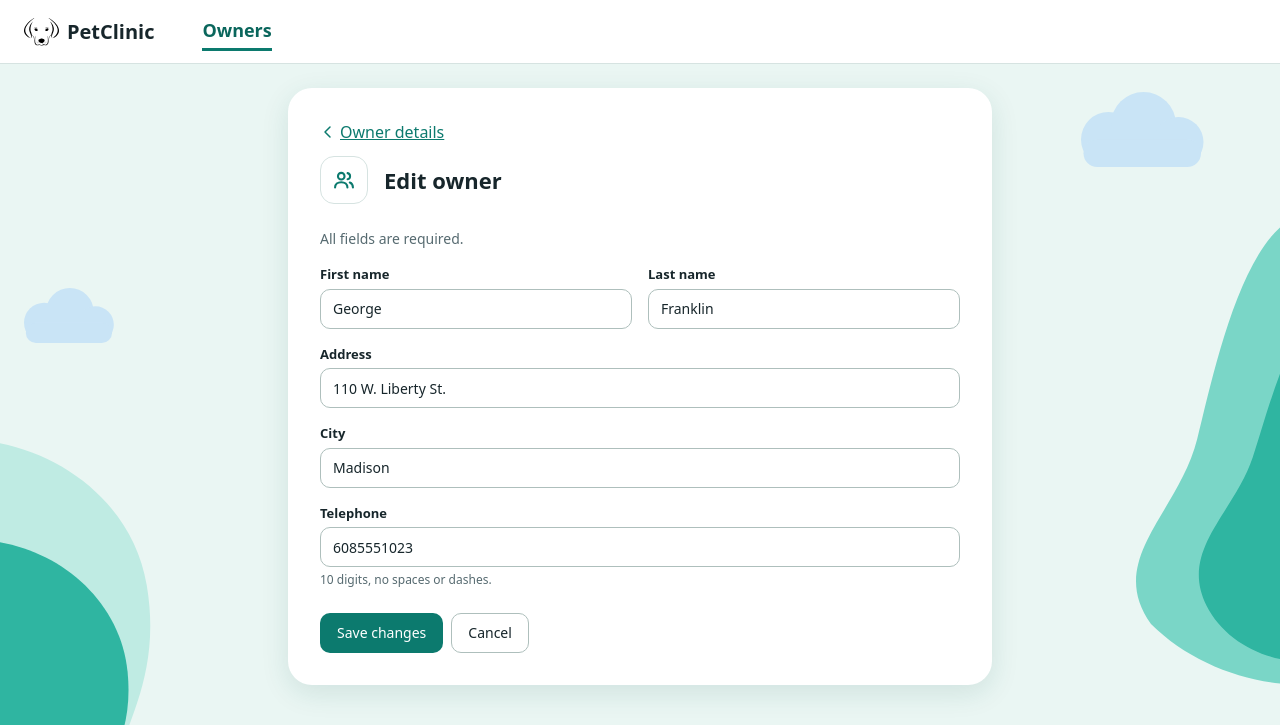
EditOwnerPage › validates before sending anything
Clear the field labelled "Last name" at (804, 308), box [648,288,960,328]
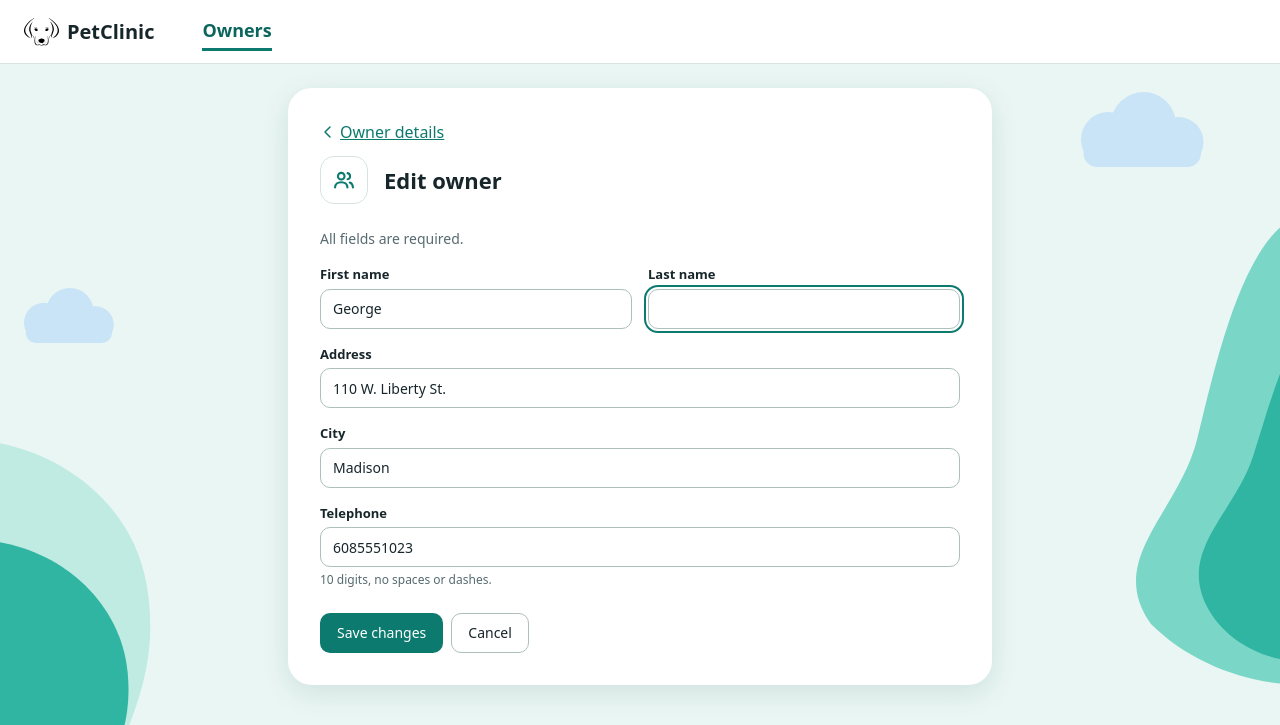
Click the button "Save changes" at (382, 633), box [320,613,443,653]
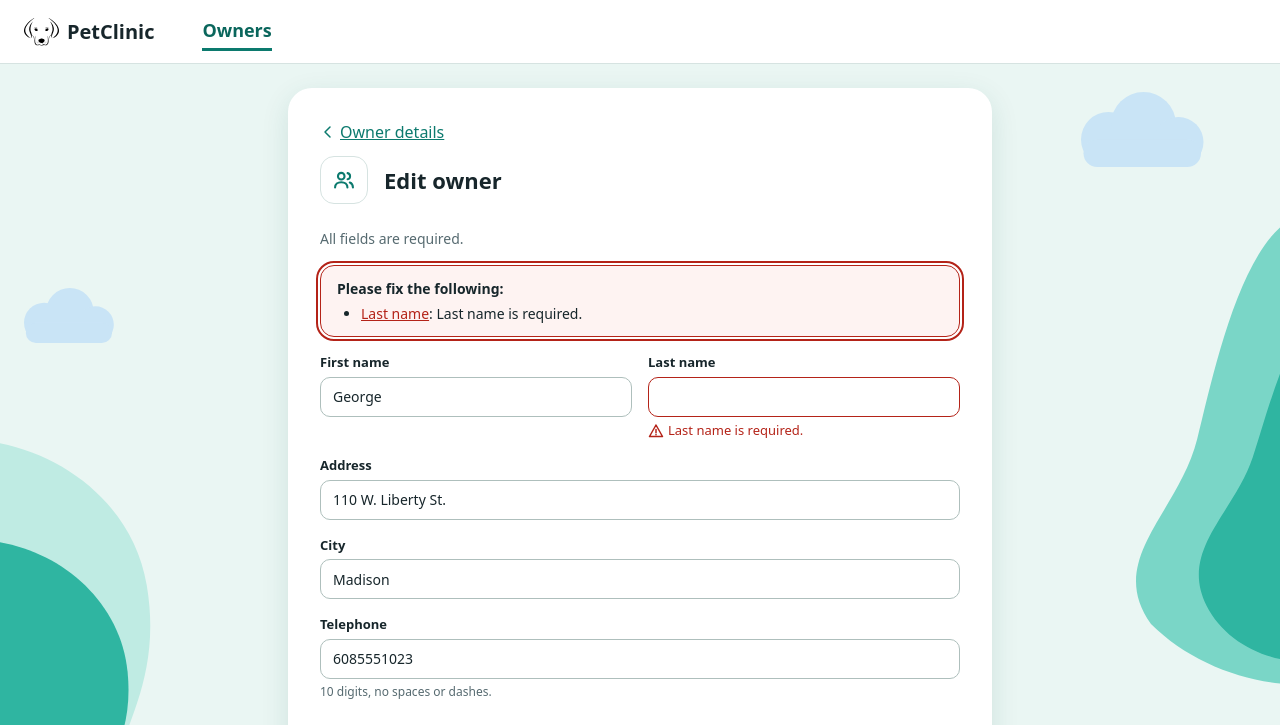
Now the message shows "Last name is required.", box [436,304,582,323]
